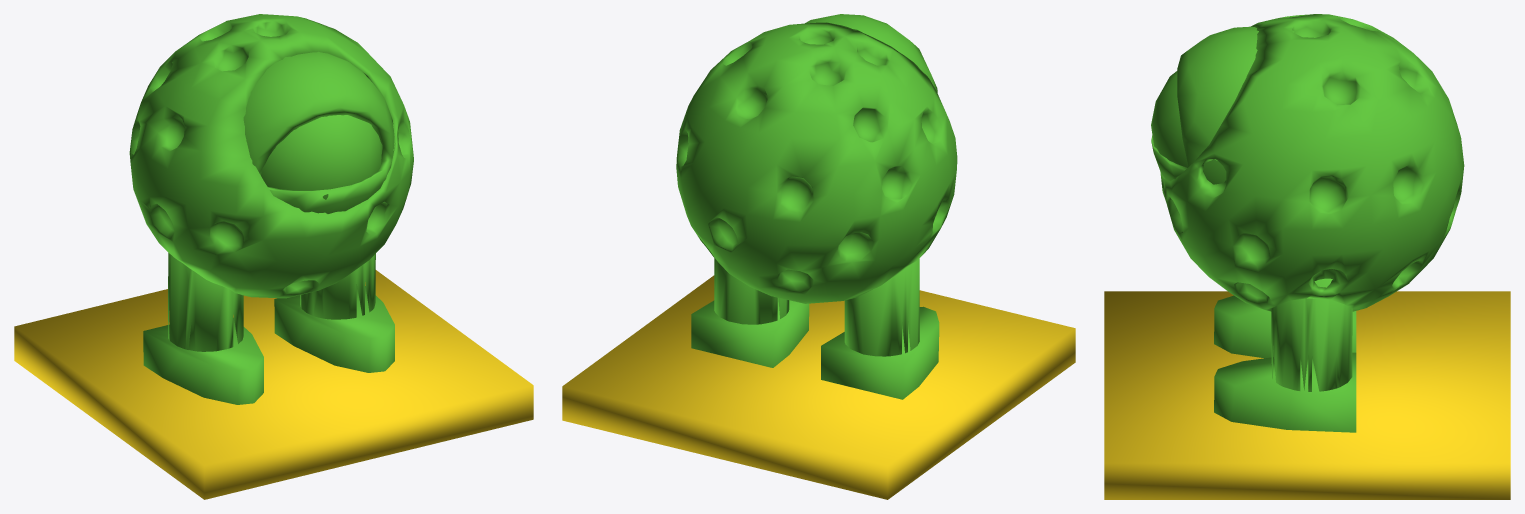
The model's file is adult_7.glb.
The picture shows the model from 3 angles, left to right: view 1: azimuth 30°, elevation 25°; view 2: azimuth 150°, elevation 25°; view 3: azimuth 270°, elevation 25°; orthographic projection. The views are drawn at different scales.
Parts seen in each view (by area): view 1: figura, basetta; view 2: figura, basetta; view 3: figura, basetta.
Boxes of the visible parts, box(x1,y1,x2,y2) form: figura: box(129, 14, 413, 404); basetta: box(14, 270, 533, 499); figura: box(676, 14, 957, 399); basetta: box(562, 275, 1075, 499); figura: box(1151, 14, 1464, 432); basetta: box(1104, 291, 1510, 499).
Bounding box in the file's own units: 0.02 × 0.0209 × 0.02.
